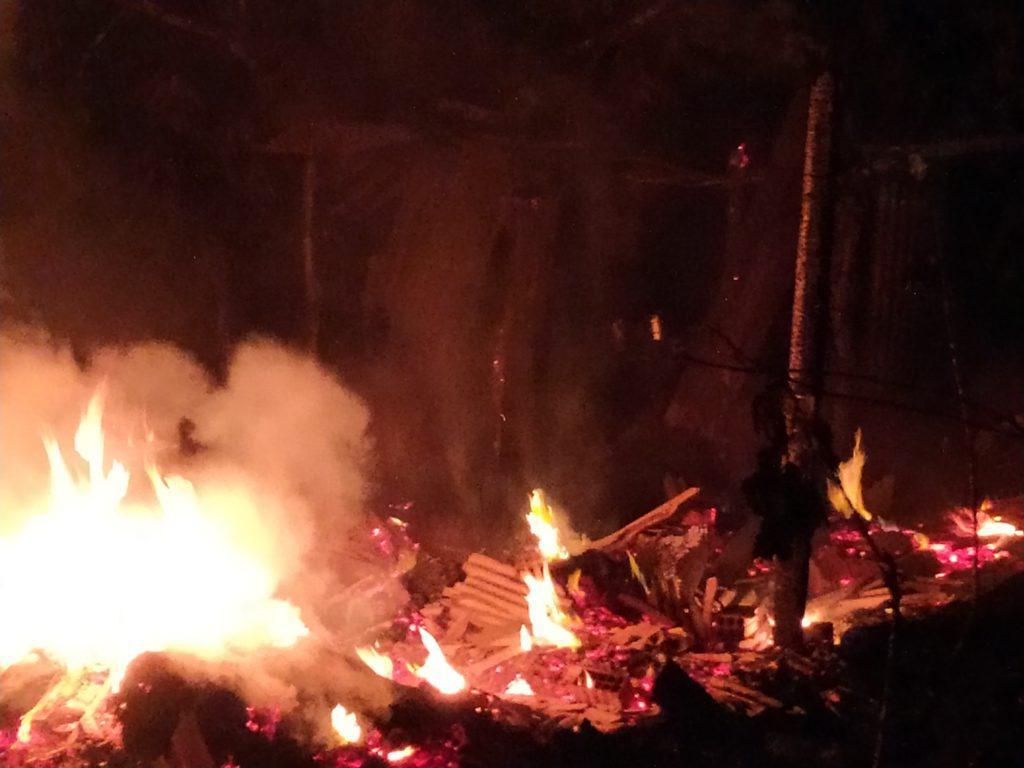Fire: (4, 385, 339, 678), (825, 426, 882, 523), (516, 566, 576, 647), (408, 621, 467, 699), (523, 490, 580, 561), (970, 498, 1020, 540), (331, 705, 371, 743), (354, 648, 399, 681)
